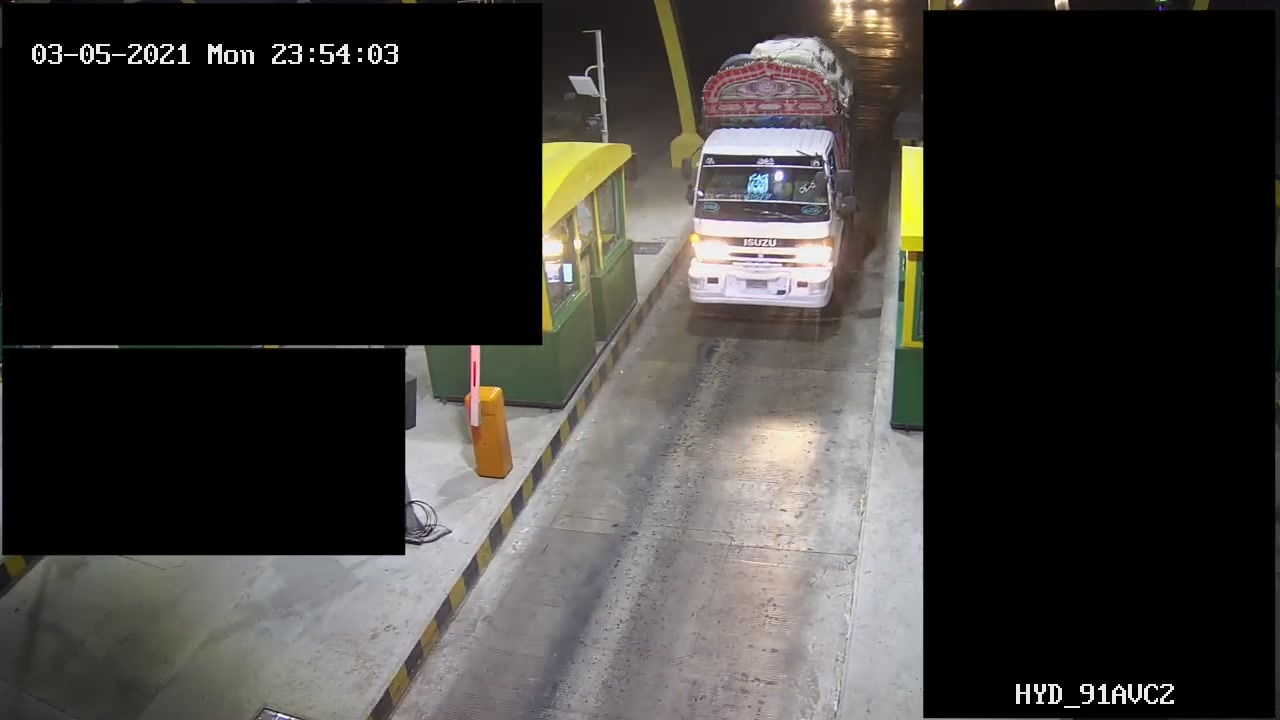F5: (684, 36, 866, 329)
